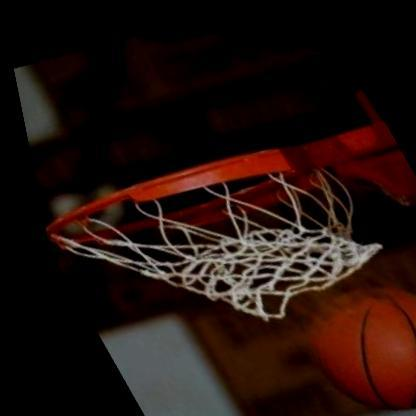basketball: (266, 241, 416, 416)
